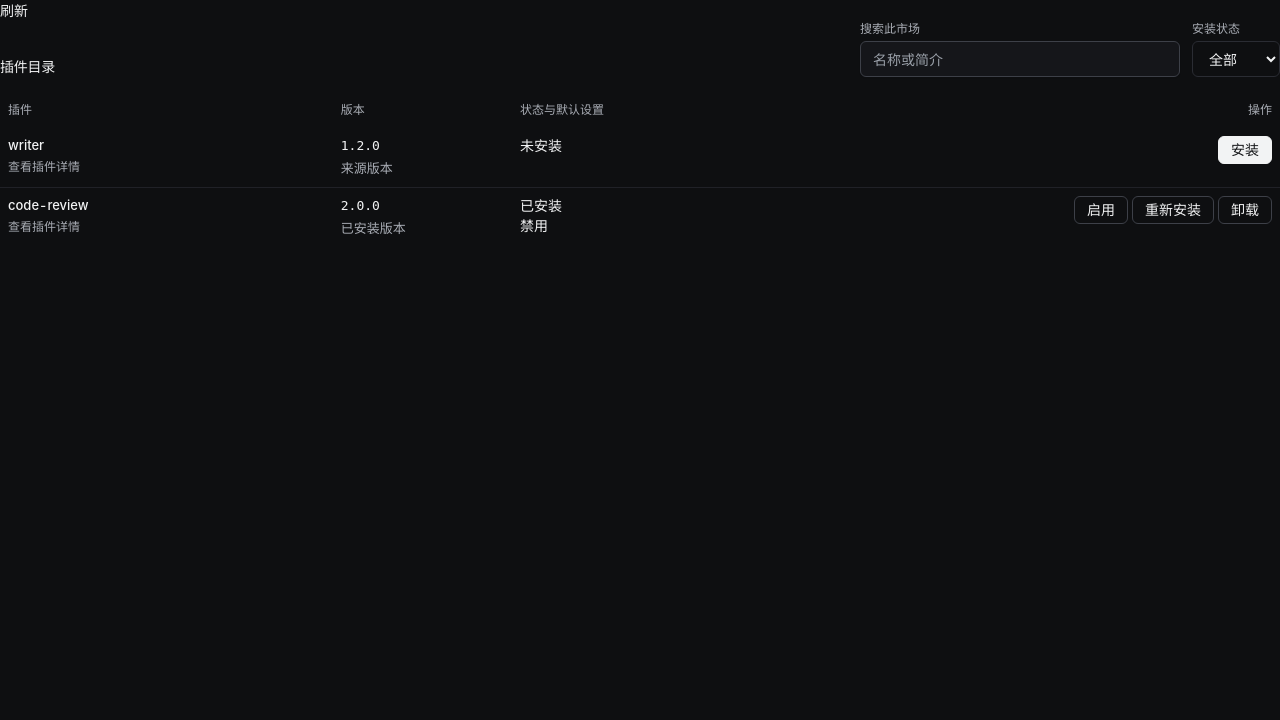
Codex plugin management › confirms Install and rereads instead of assuming the new state
Click the button with aria-label "安装 writer（personal）" at (1245,150), box [1218,136,1272,164]
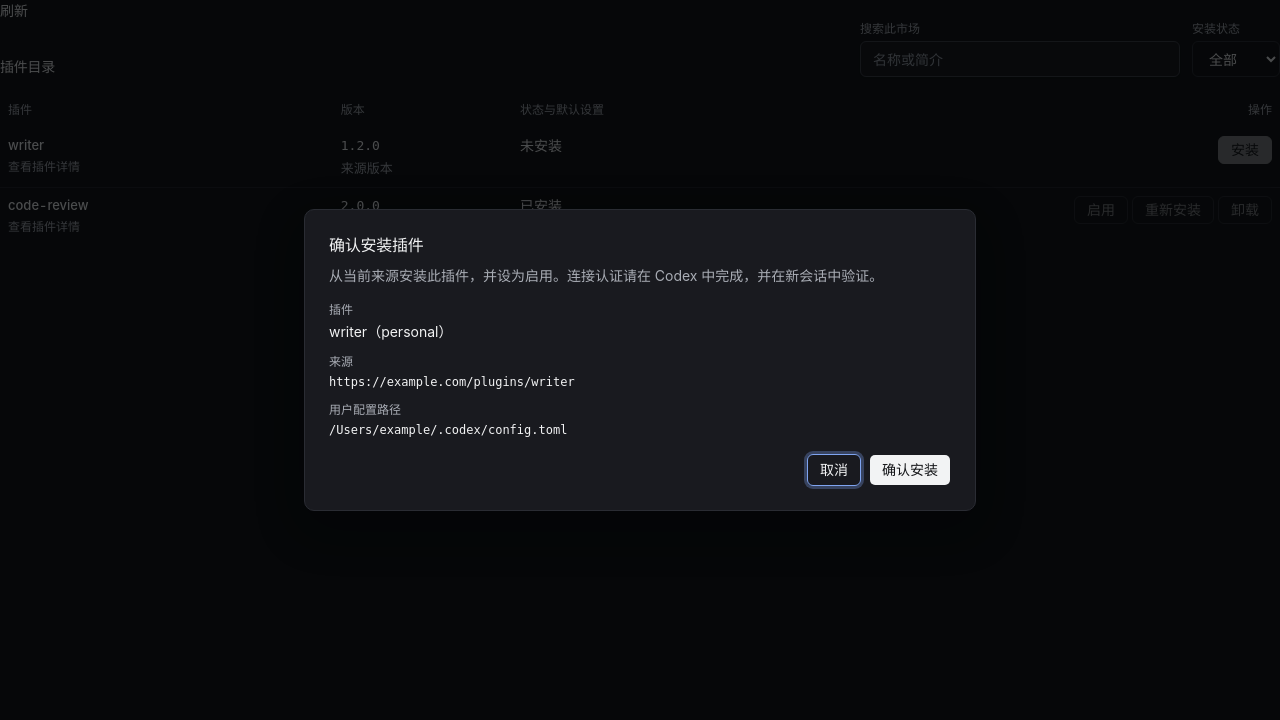
Now the dialog shows "writer（personal）", box [329,323,452,340]
Click the 2nd button at (910,470), box [869,454,951,486]
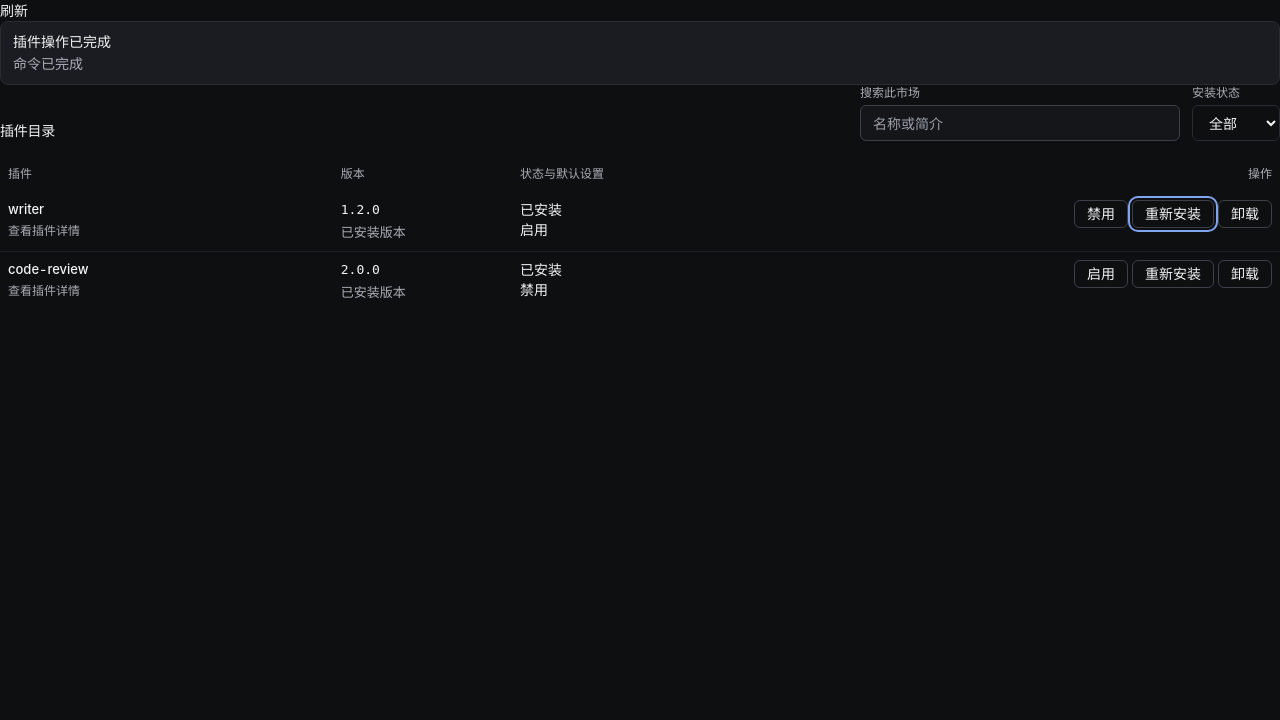
Now the dialog is gone
Now the button with aria-label "禁用 writer（personal）" is shown, box [1074,200,1128,228]
